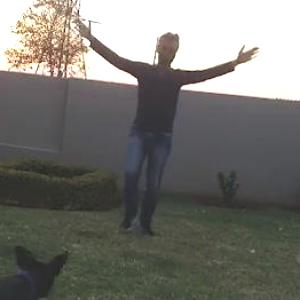takeoff: (71, 23, 255, 231)
